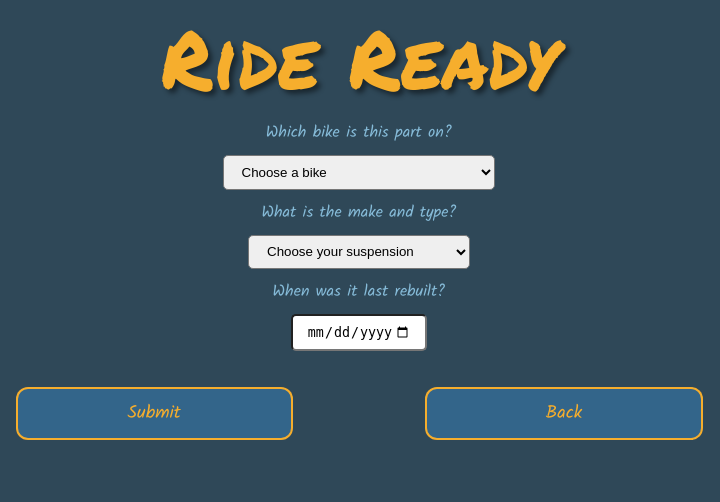
Scenario: add-new-part › Should not allow a user to submit a new part without date selected
Select "1" in the 1st dropdown named "bikeSelect" at (359, 172), box [223,155,495,189]
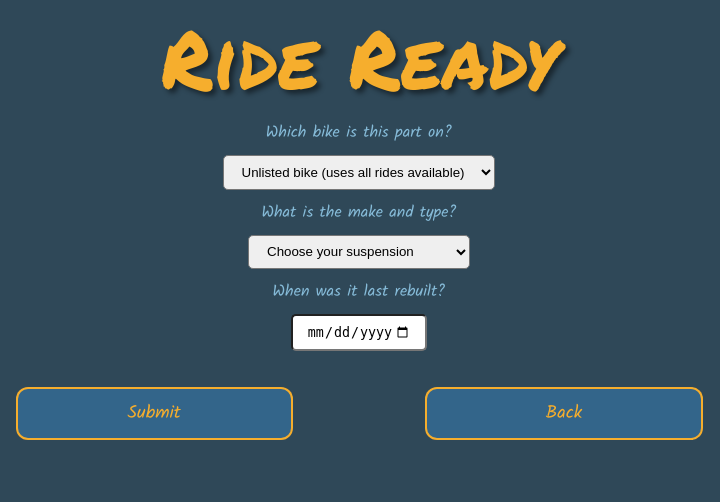
Select "Fox Rear Coil Shock" in the 2nd dropdown named "suspensionSelect" at (359, 252), box [248,235,469,269]
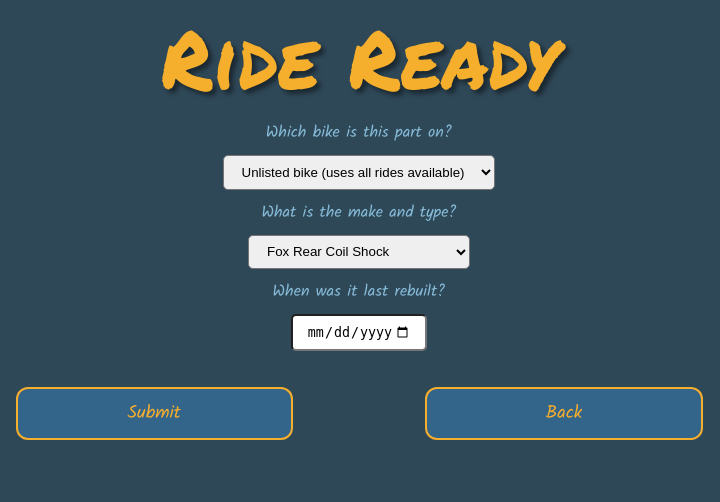
Click the button "Submit".
click(155, 414)  # box [18,389,291,438]
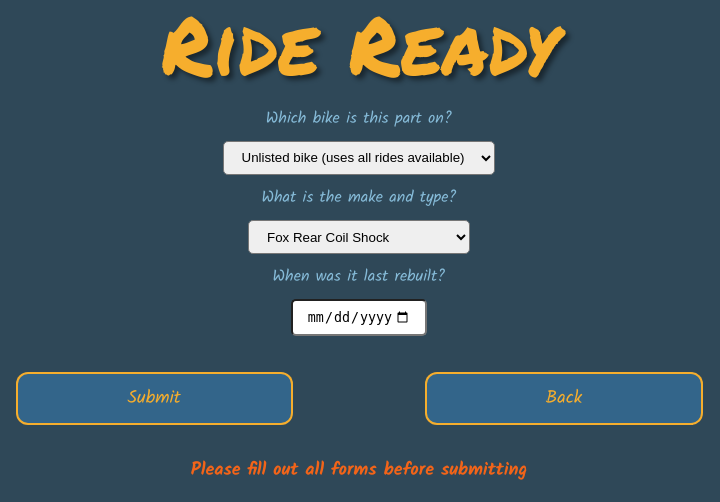
Now the text "Please fill out all forms before submitting" is shown, box [191,456,527,485]
